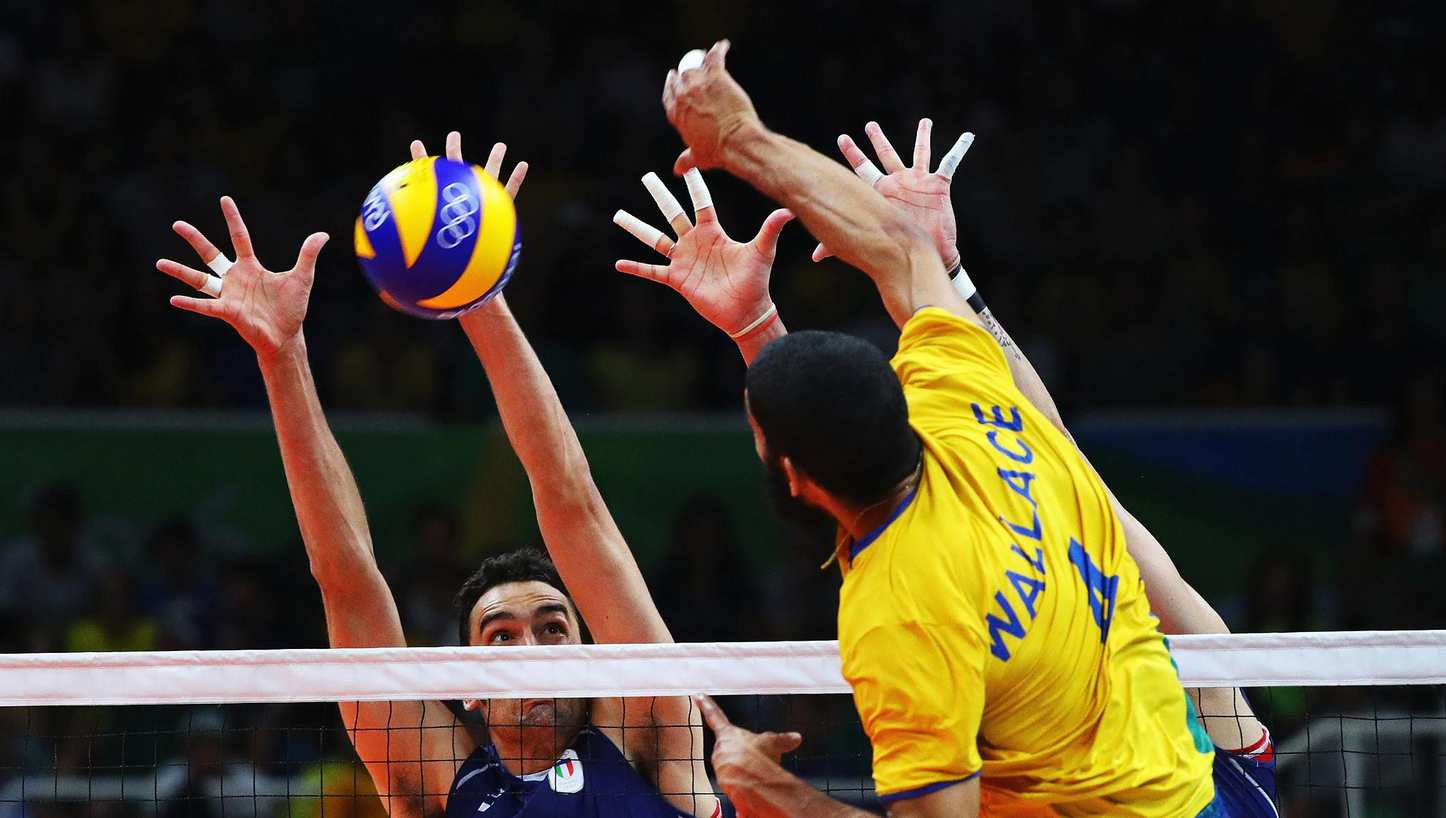ballon_volley: (354, 156, 523, 325)
